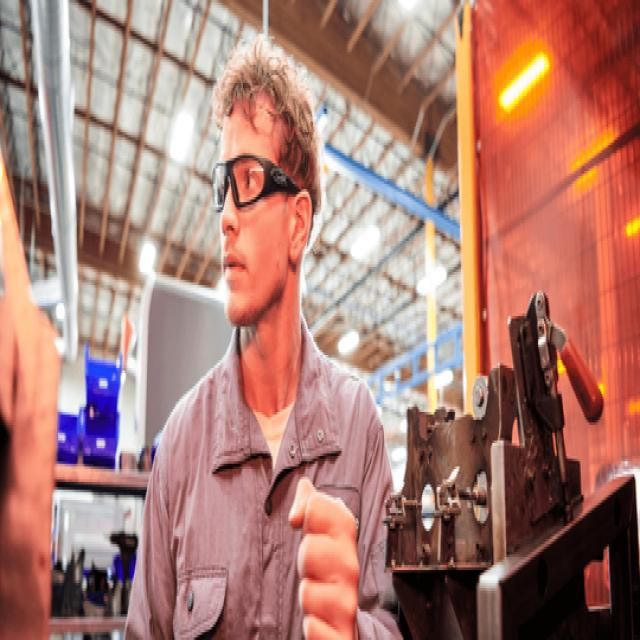Hard Hat: (416, 480, 438, 531)
Safety Glasses: (212, 153, 304, 220)
